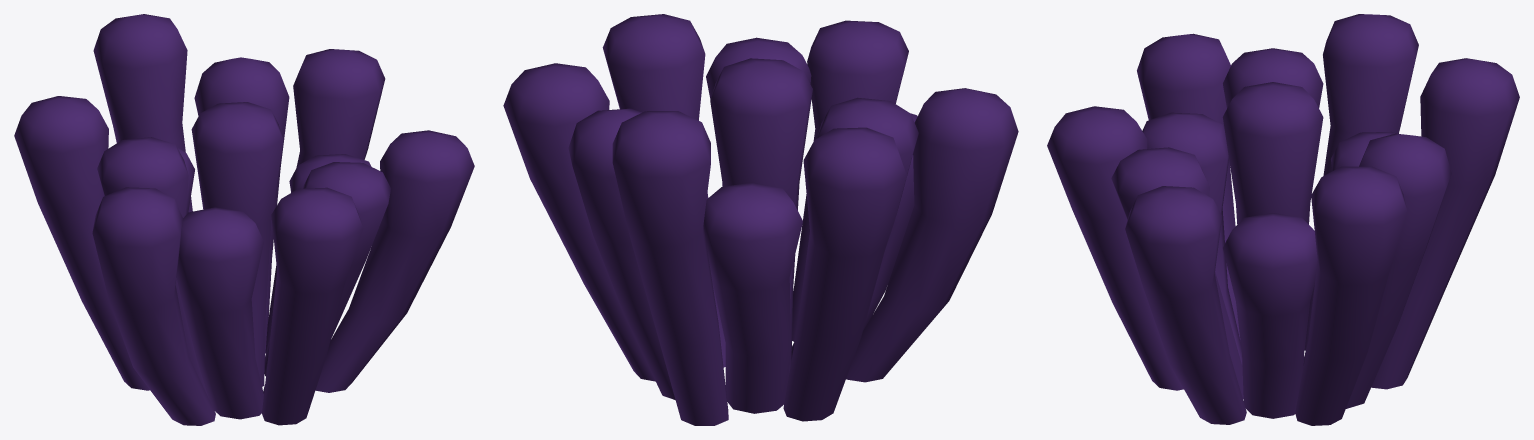
File: Sea_plant_3.fbx
3 renders of one model, left to right at view 1: azimuth 30°, elevation 25°; view 2: azimuth 150°, elevation 25°; view 3: azimuth 270°, elevation 25°, orthographic. The views are drawn at different scales.
Parts seen in each view (by area): view 1: Sea_plant_3; view 2: Sea_plant_3; view 3: Sea_plant_3.
Part boxes in pixels (<box>): Sea_plant_3: <box>14,14,474,425</box>; Sea_plant_3: <box>503,14,1018,425</box>; Sea_plant_3: <box>1047,14,1519,425</box>.
Bounding box in the file's own units: 0.8989 × 0.6982 × 0.9557.
